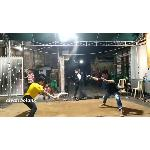Celurit: (52, 86, 72, 104)
